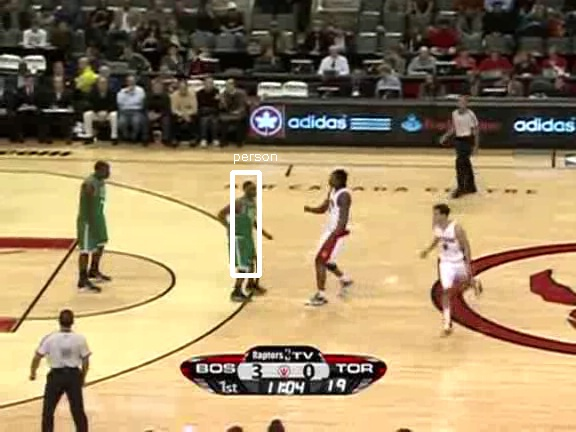person: (229, 193, 263, 274), (228, 193, 262, 274), (230, 193, 264, 274), (229, 192, 263, 273), (229, 194, 263, 275)
target_negative: (168, 7, 293, 141), (443, 194, 516, 330), (255, 403, 568, 421), (546, 241, 560, 363), (443, 208, 457, 325), (563, 336, 571, 401)
